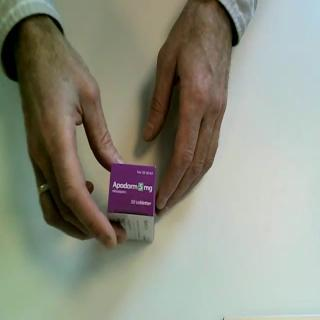apodonorm5mg: (107, 163, 159, 246)
